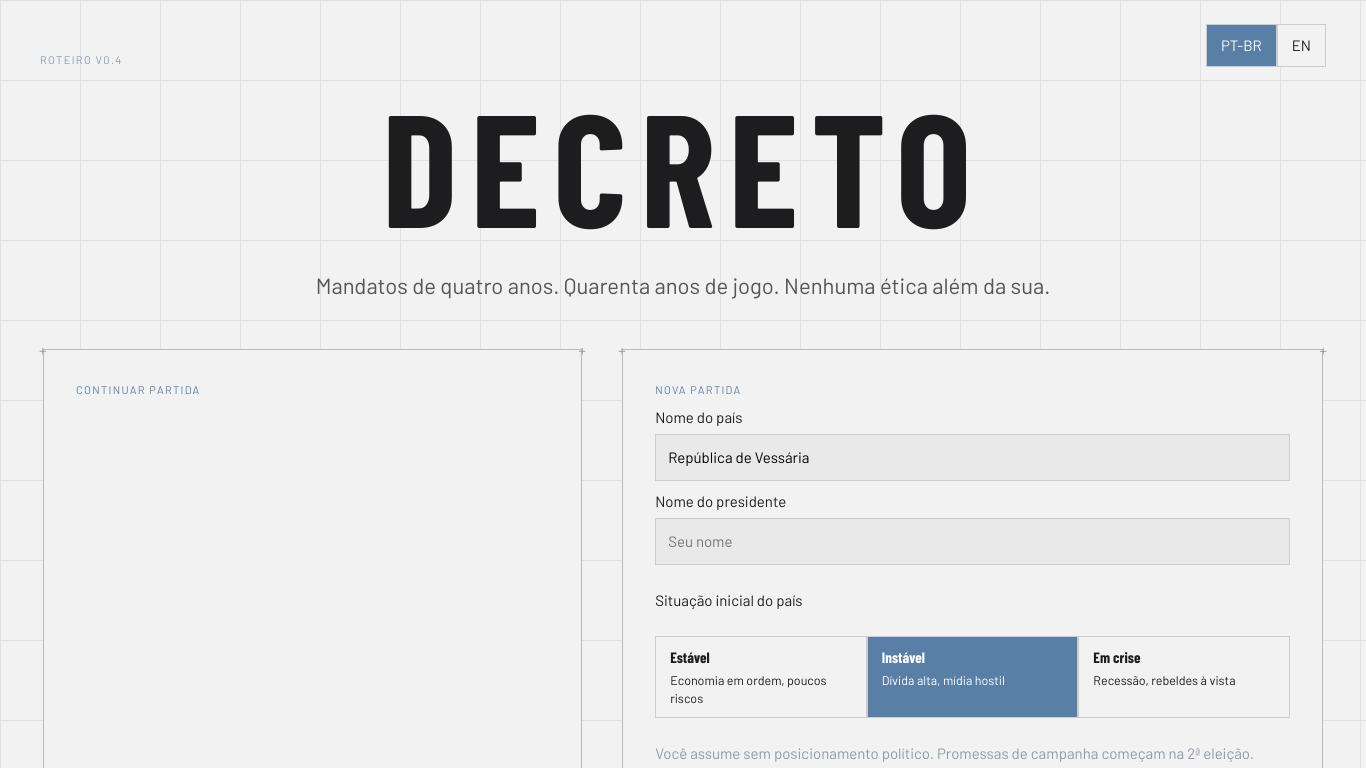
Test: App with API › ignores a delayed old save failure after creating a new game
Step 1. Type "Helena" into the field with placeholder "Seu nome" → coordinates (973, 542), box [655,518,1290,565]
(page scrolled)
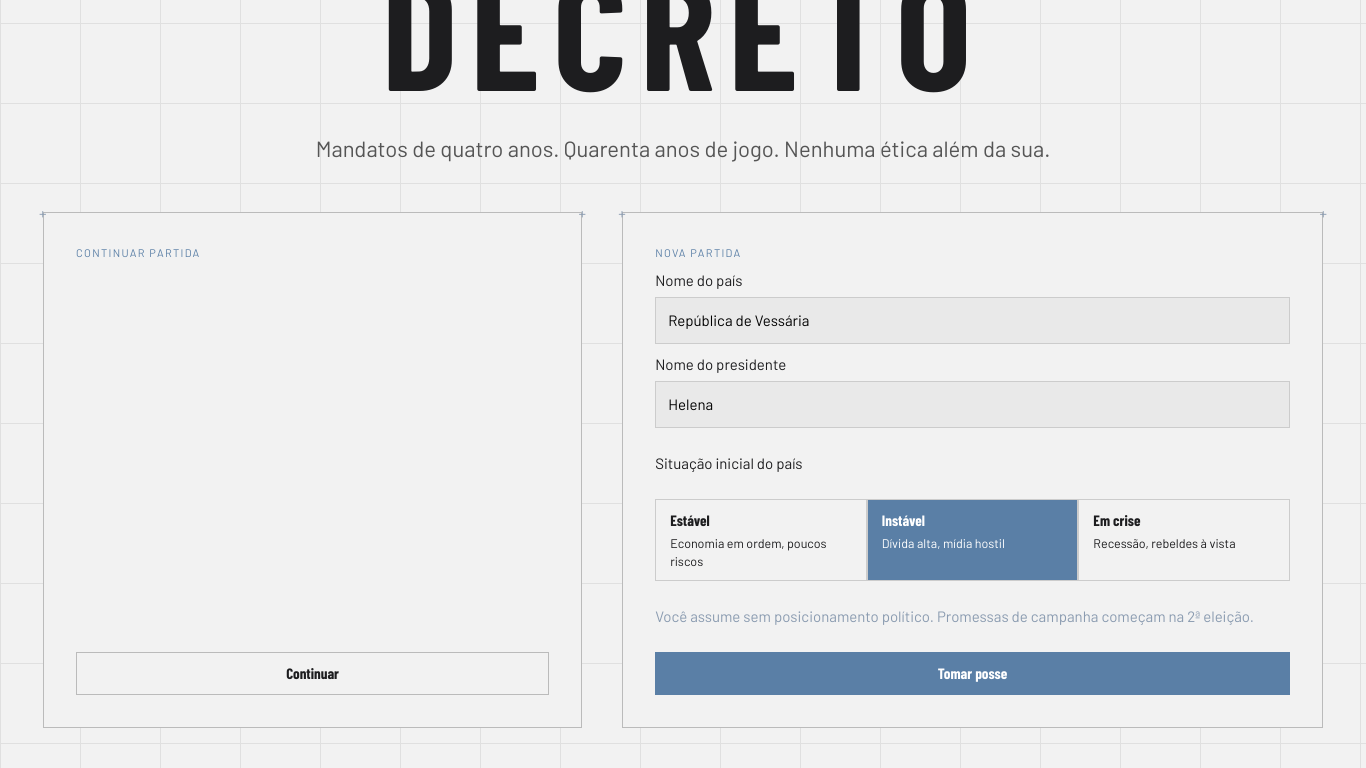
Step 2. Click the button "Tomar posse" → coordinates (973, 674), box [655,652,1290,695]
(page scrolled)
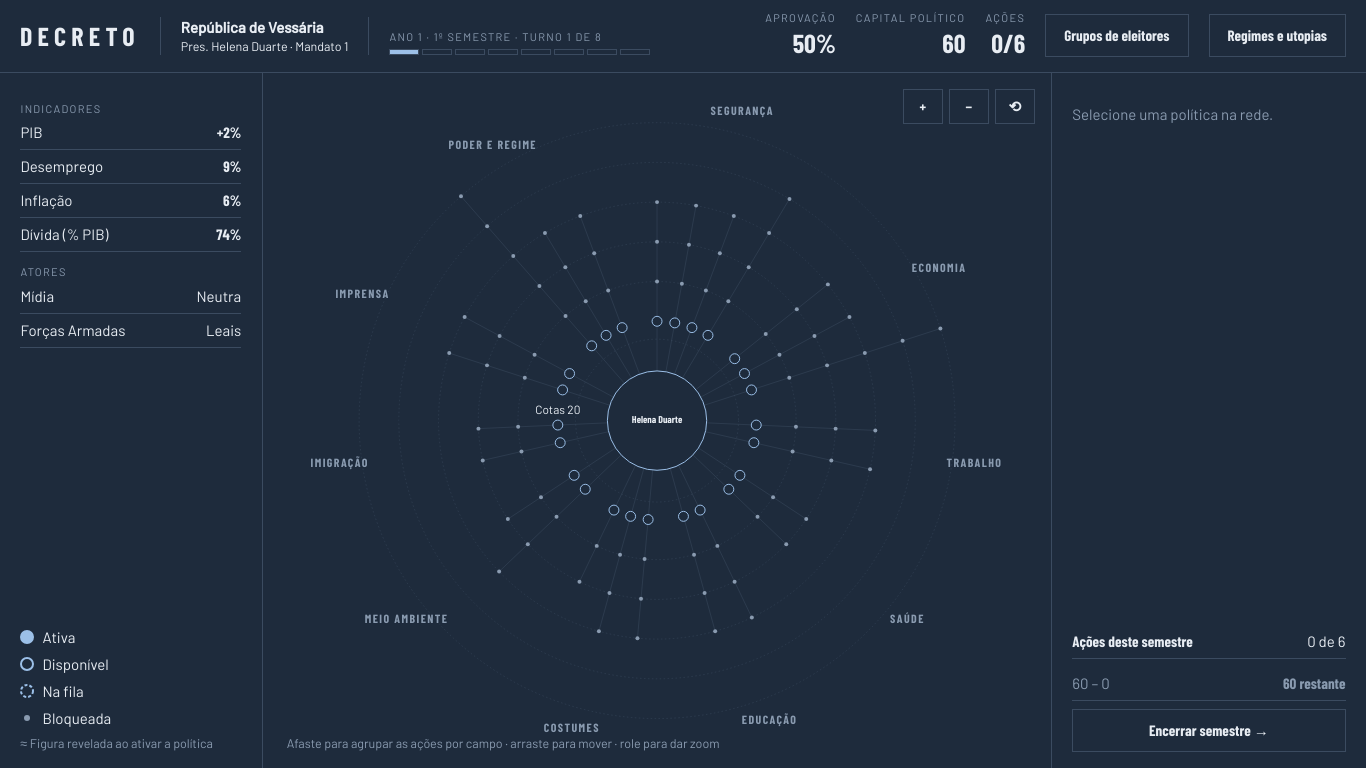
Expected: the text "Ações deste semestre" is shown, [1072,631,1193,652]
